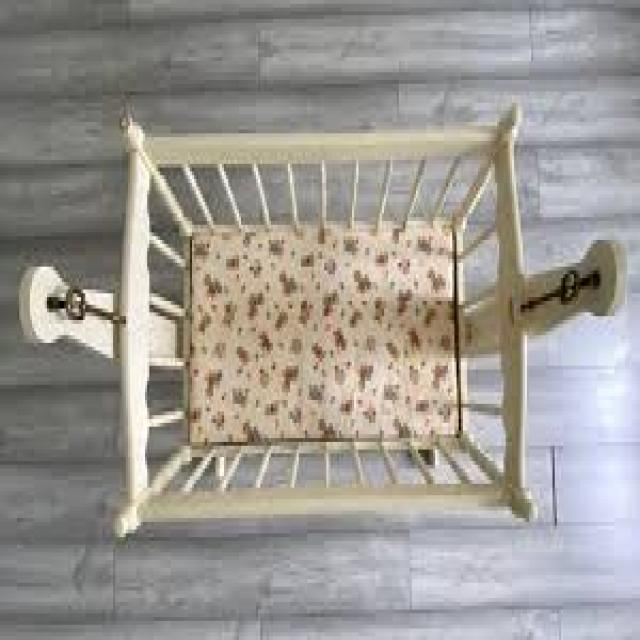crib: (17, 95, 625, 537)
